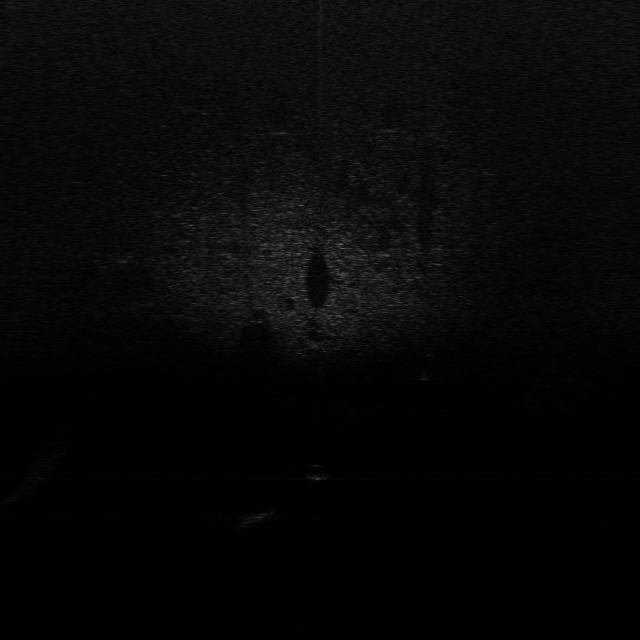ball: (298, 461, 337, 482)
square cage: (233, 508, 282, 528)
tyre: (414, 351, 444, 381)
